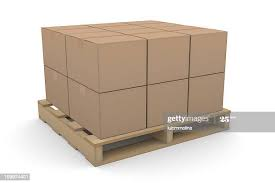box: (98, 38, 147, 92), (99, 84, 147, 137), (145, 33, 190, 84), (67, 75, 100, 141), (146, 77, 188, 127), (65, 35, 99, 95), (189, 30, 227, 78), (187, 72, 224, 116), (43, 64, 69, 118), (40, 26, 66, 77)
pallet: (37, 96, 231, 168)
